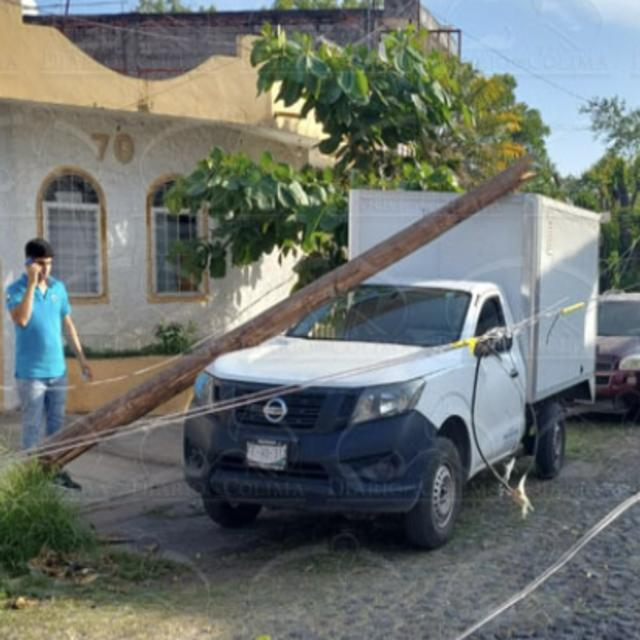Inclined Pole: (16, 156, 540, 473)
